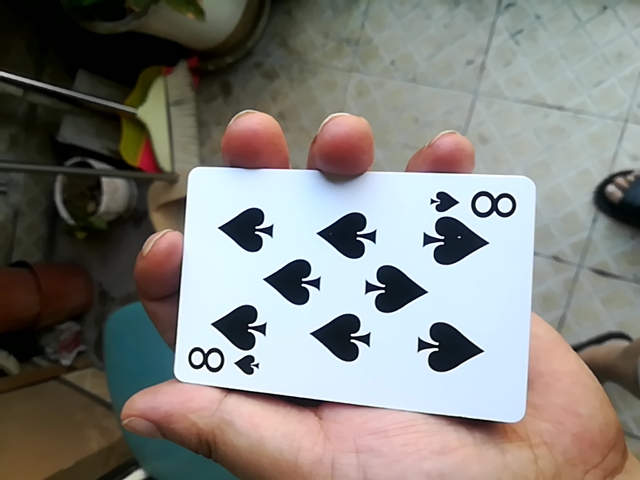ht 8: (176, 147, 534, 410)
